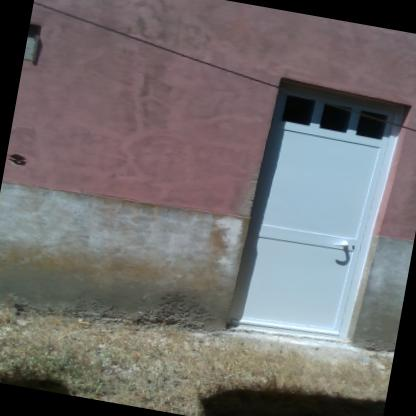closed: (221, 71, 415, 372)
